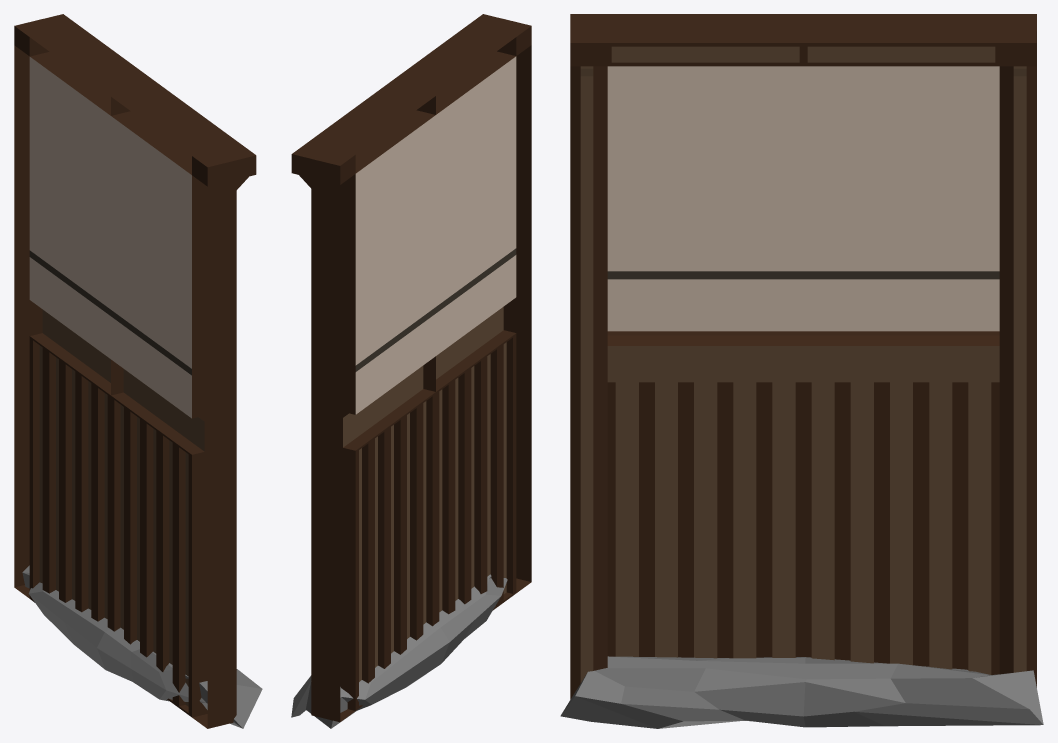
File: env_market_shop_facade_01.fbx
The picture shows the model from 3 angles, left to right: view 1: azimuth 30°, elevation 25°; view 2: azimuth 150°, elevation 25°; view 3: azimuth 270°, elevation 25°; orthographic projection. The views are drawn at different scales.
Parts seen in each view (by area): view 1: Cube, Cube.002; view 2: Cube, Cube.002; view 3: Cube, Cube.002.
Boxes of the visible parts, x1,y1,x2,y2 form: Cube: (14,14,256,728); Cube.002: (22,565,262,728); Cube: (291,14,531,722); Cube.002: (291,574,507,728); Cube: (570,14,1036,699); Cube.002: (560,656,1043,728).
Size of the model in its own units: 43.85 by 327 by 207.
